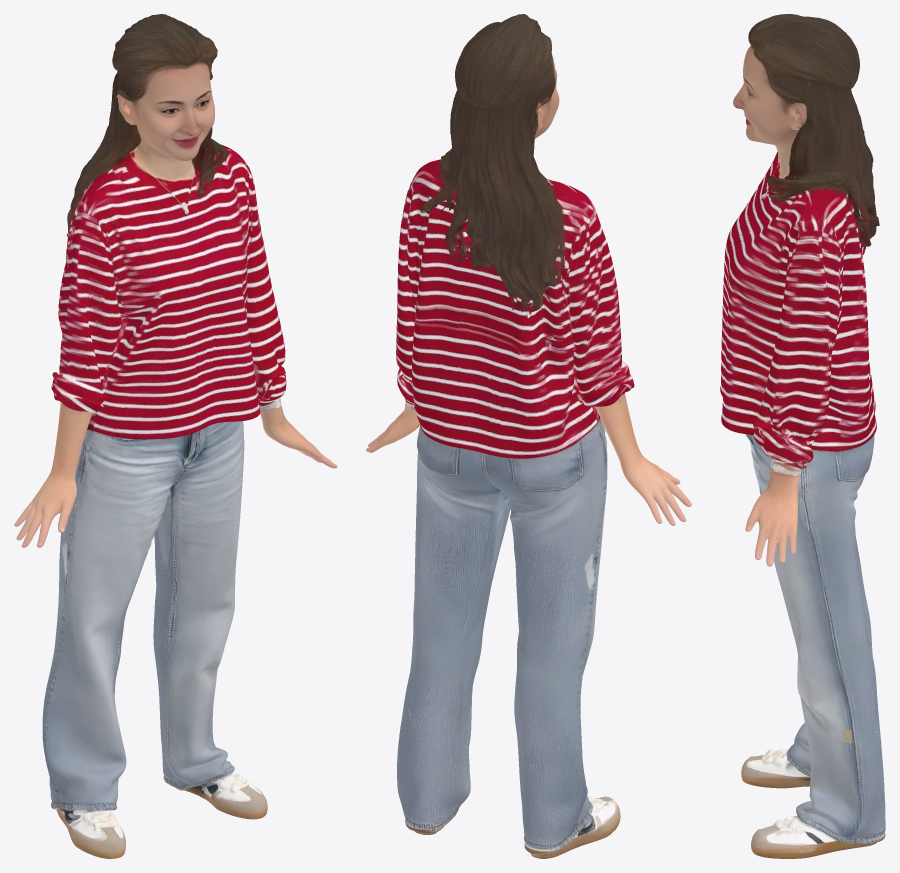
File: asel.glb
The picture shows the model from 3 angles, left to right: view 1: azimuth 30°, elevation 25°; view 2: azimuth 150°, elevation 25°; view 3: azimuth 270°, elevation 25°; orthographic projection.
Size of the model in its own units: 0.7866 by 1.9 by 0.3562.
Materials: 1 (1 with a texture image).
